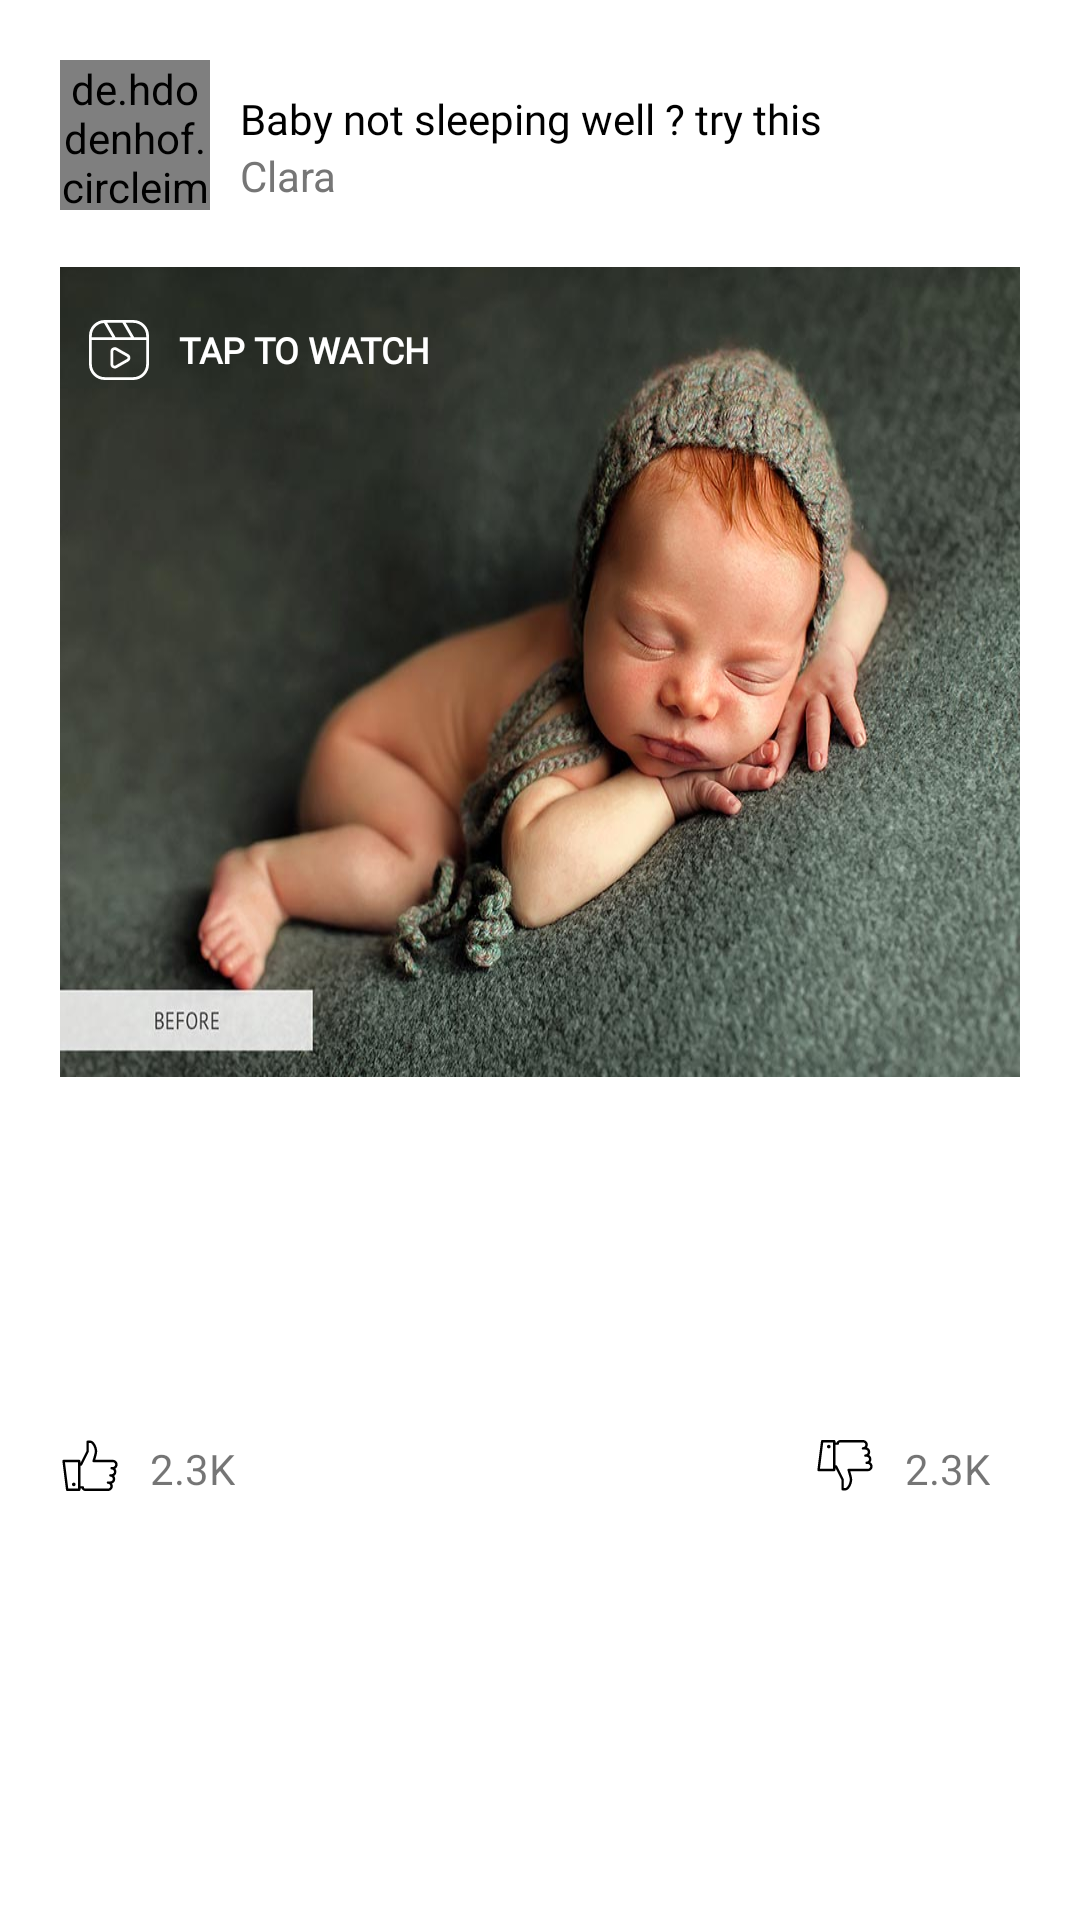

Icon bounding boxes for this 1080px×1920px phone screenshot, format (x1, y1, x2, y2):
dislike: (817, 1440, 873, 1491)
like: (62, 1440, 118, 1491)
